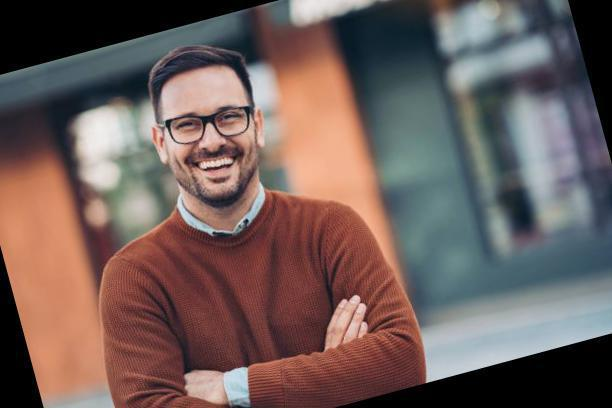Sober: (159, 74, 259, 200)
